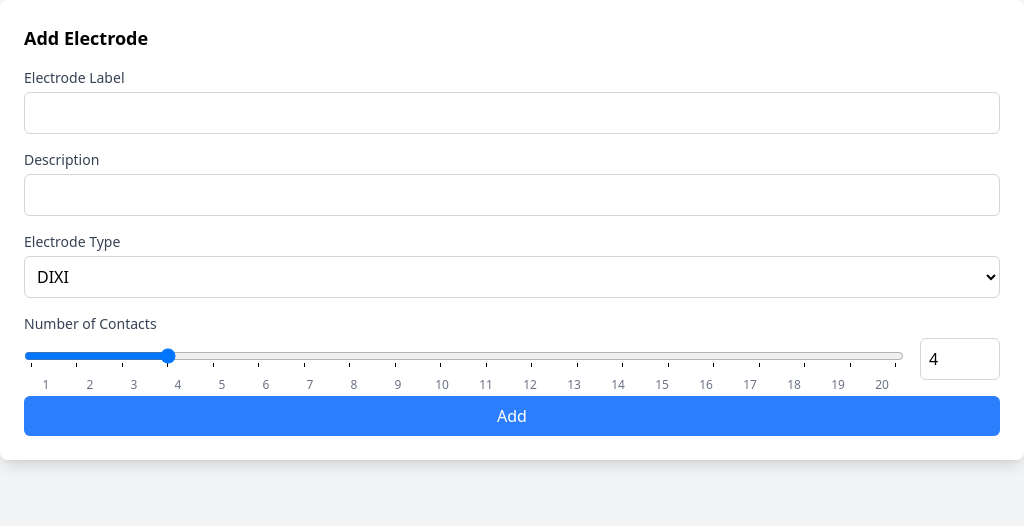
Test case: EditElectrodeModal Component › non-valid contact number
The width and height of the screenshot is (1024, 526).
Type "A'" into the field labelled "Electrode Label". click: {"x": 512, "y": 113}
box: [24,92,1000,134]
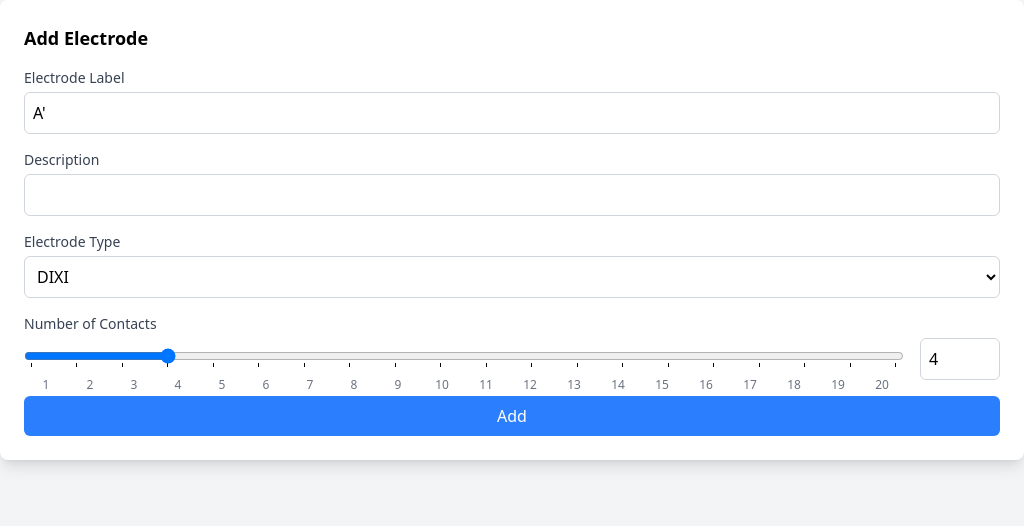
Replace the text in the number field with id "contact-number" with "-1". click: {"x": 960, "y": 359}
box: [920,338,1000,380]
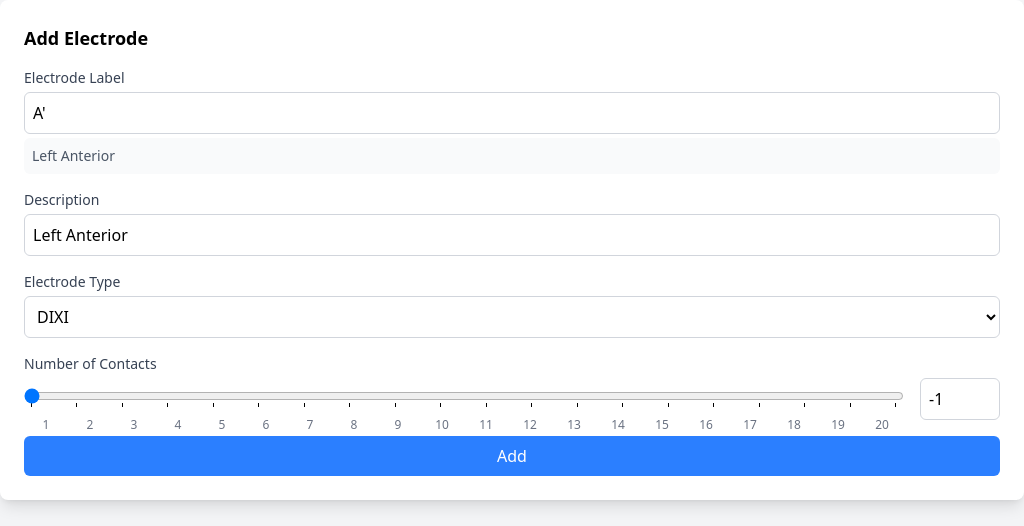
Click the button "Add". click: {"x": 512, "y": 456}
box: [24,436,1000,476]
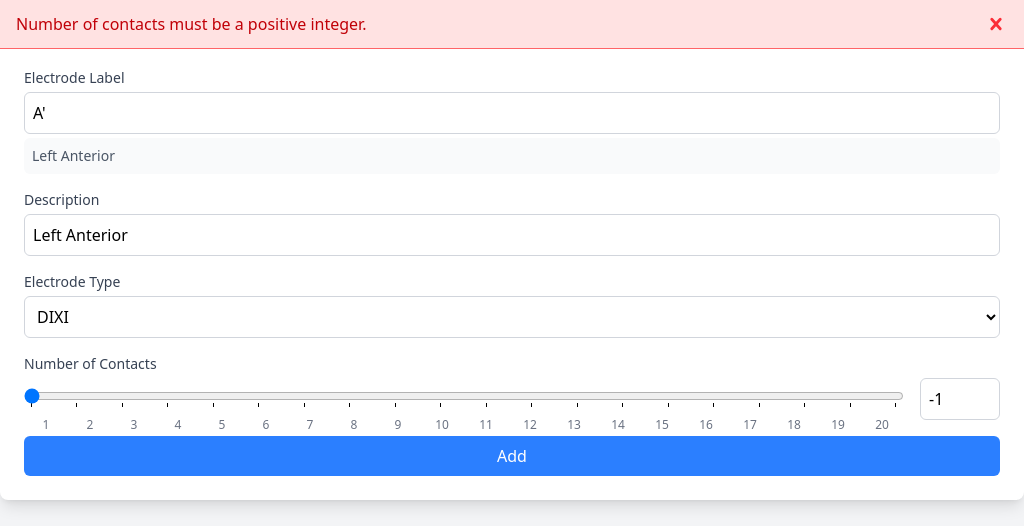
Expected: the text "Number of contacts must be a positive integer." is shown, [16,12,366,36]
